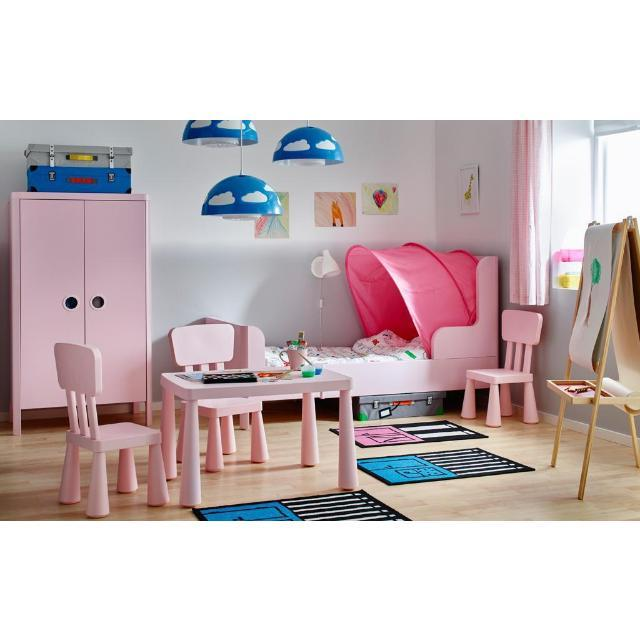bed: (265, 242, 498, 396)
chair: (54, 342, 169, 518), (461, 309, 542, 426)
curtain: (510, 119, 551, 305), (594, 119, 640, 135)
dresser: (10, 192, 151, 433)
light: (201, 128, 282, 219), (272, 122, 344, 165), (182, 119, 259, 146)
rug: (192, 490, 410, 521), (359, 448, 534, 485), (355, 420, 488, 447)
table: (160, 369, 359, 506)
wall-art: (255, 192, 289, 237), (314, 192, 356, 226), (363, 182, 399, 214), (460, 164, 479, 213)
